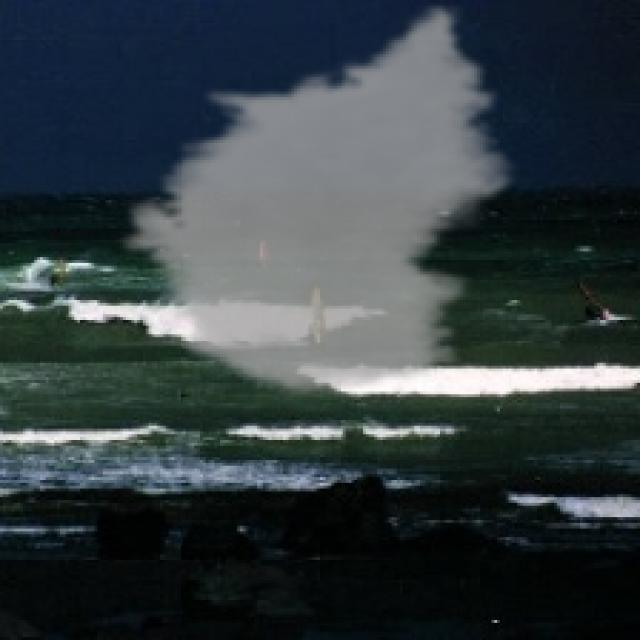Smoke: (114, 3, 526, 400)
